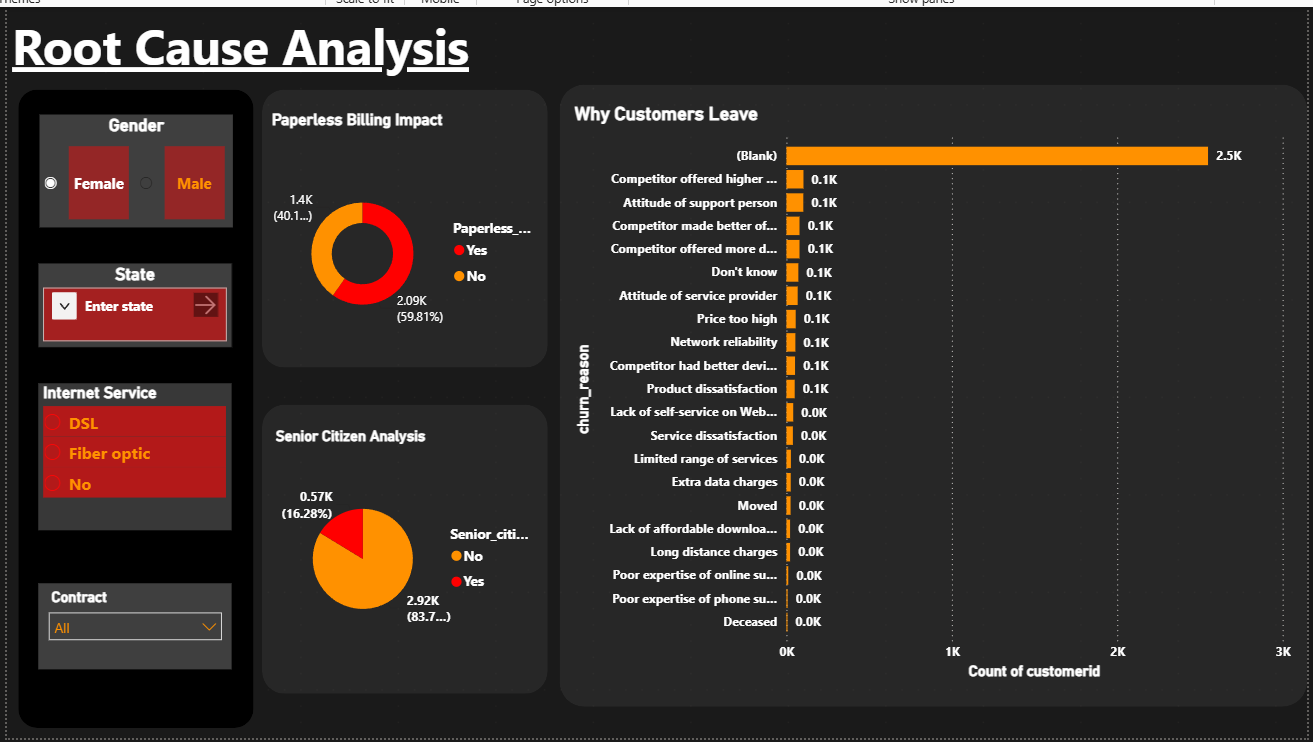

The page's visual inventory and layout, read from the dashboard file:
{"tool":"powerbi","page":{"name":"Root Cause Analysis","canvas":[1280,720],"ordinal":1},"visuals":[{"type":"shape","box":[250.7,391.3,281.3,284.9],"z":0},{"type":"shape","box":[544.2,75.8,736.1,612.6],"z":1},{"type":"shape","box":[250.7,80.7,281.3,273.9],"z":2},{"type":"clusteredBarChart","title":"Why Customers Leave ","fields":{"Category":["customer.churn_reason"],"Y":["CountNonNull(customer.customerid)"]},"box":[553.9,95.4,715.4,572.3],"z":3},{"type":"textbox","box":[0,0,1269.3,81.9],"z":4},{"type":"shape","box":[10.9,80.8,231.6,628.6],"z":5},{"type":"advancedSlicerVisual","title":"Gender","fields":{"Values":["customer.gender"]},"box":[31.4,102.5,190.6,111],"z":6},{"type":"textSlicer","title":"State","fields":{"Values":["customer.state"]},"box":[31.4,252.1,190.6,82],"z":7},{"type":"listSlicer","title":"Internet Service","fields":{"Values":["customer.internet_service"]},"box":[31.4,370.4,190.6,144.8],"z":8},{"type":"slicer","fields":{"Values":["customer.contract"]},"box":[31.4,567,190.6,84.5],"z":9},{"type":"donutChart","title":"Paperless Billing Impact","fields":{"Category":["customer.paperless_billing"],"Y":["CountNonNull(customer.customerid)"]},"box":[255.6,102.7,281.3,264.1],"z":10},{"type":"pieChart","title":"Senior Citizen Analysis","fields":{"Category":["customer_churn customer.senior_citizen"],"Y":["CountNonNull(customer.customerid)"]},"box":[259.2,413.3,272.7,243.3],"z":11}]}

Visuals, with their boxes on the page's 1280x720 design canvas (x1, y1, x2, y2). These are canvas units, not pixel positions in the 1313x742 screenshot, which may show the page scaled, cropped or inside an application window:
shape: detection(251, 391, 532, 676)
shape: detection(544, 76, 1280, 688)
shape: detection(251, 81, 532, 355)
"Why Customers Leave " clusteredBarChart: detection(554, 95, 1269, 668)
textbox: detection(0, 0, 1269, 82)
shape: detection(11, 81, 242, 709)
"Gender" advancedSlicerVisual: detection(31, 102, 222, 214)
"State" textSlicer: detection(31, 252, 222, 334)
"Internet Service" listSlicer: detection(31, 370, 222, 515)
slicer - customer.contract: detection(31, 567, 222, 652)
"Paperless Billing Impact" donutChart: detection(256, 103, 537, 367)
"Senior Citizen Analysis" pieChart: detection(259, 413, 532, 657)
